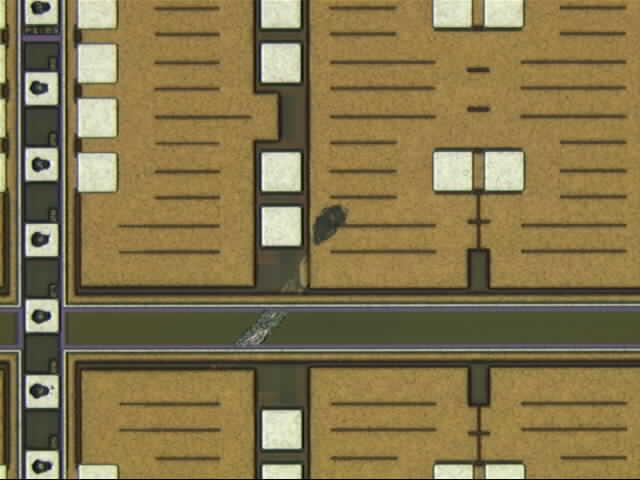SCRATCH: (208, 201, 355, 380)
